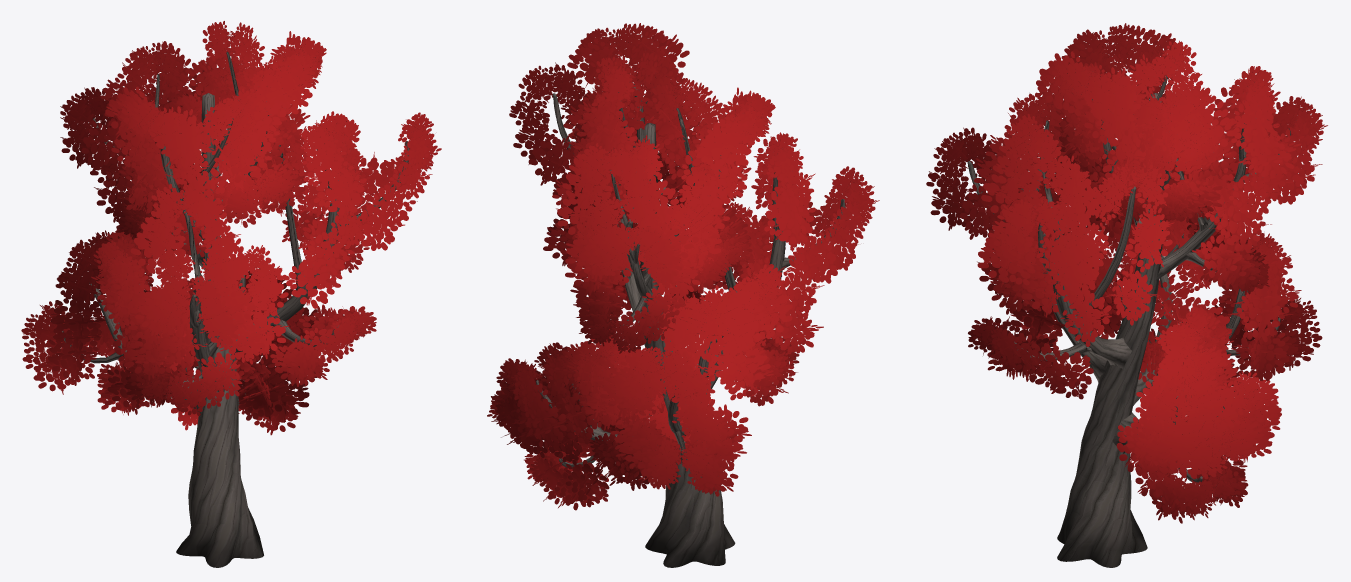
Rendered from TwistedTree_3.glb.
3 renders of one model, left to right at view 1: azimuth 30°, elevation 25°; view 2: azimuth 150°, elevation 25°; view 3: azimuth 270°, elevation 25°, orthographic. The views are drawn at different scales.
Parts seen in each view (by area): view 1: TwistedTree_3; view 2: TwistedTree_3; view 3: TwistedTree_3.
Part boxes in pixels (box(x1,y1,x2,y2)): TwistedTree_3: box(21, 21, 441, 567); TwistedTree_3: box(487, 23, 879, 567); TwistedTree_3: box(926, 23, 1327, 567).
Size of the model in its own units: 11.36 by 16.07 by 11.51.
Materials: 2 (2 with a texture image).
